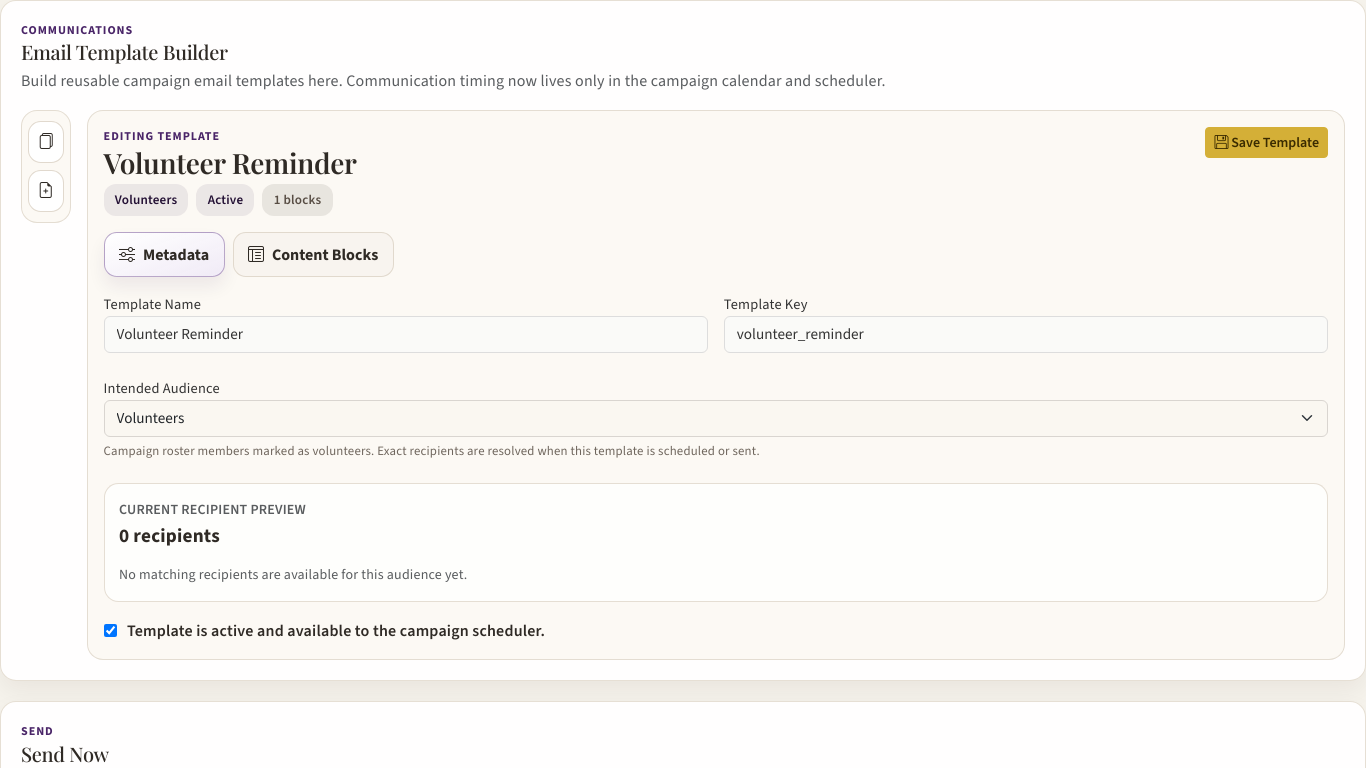
Test case: CampaignStudioCommunicationsSection › preserves authored line breaks in the rendered preview
The width and height of the screenshot is (1366, 768).
Click the button "Content Blocks". click: point(313, 254)
box: [232,232,394,277]
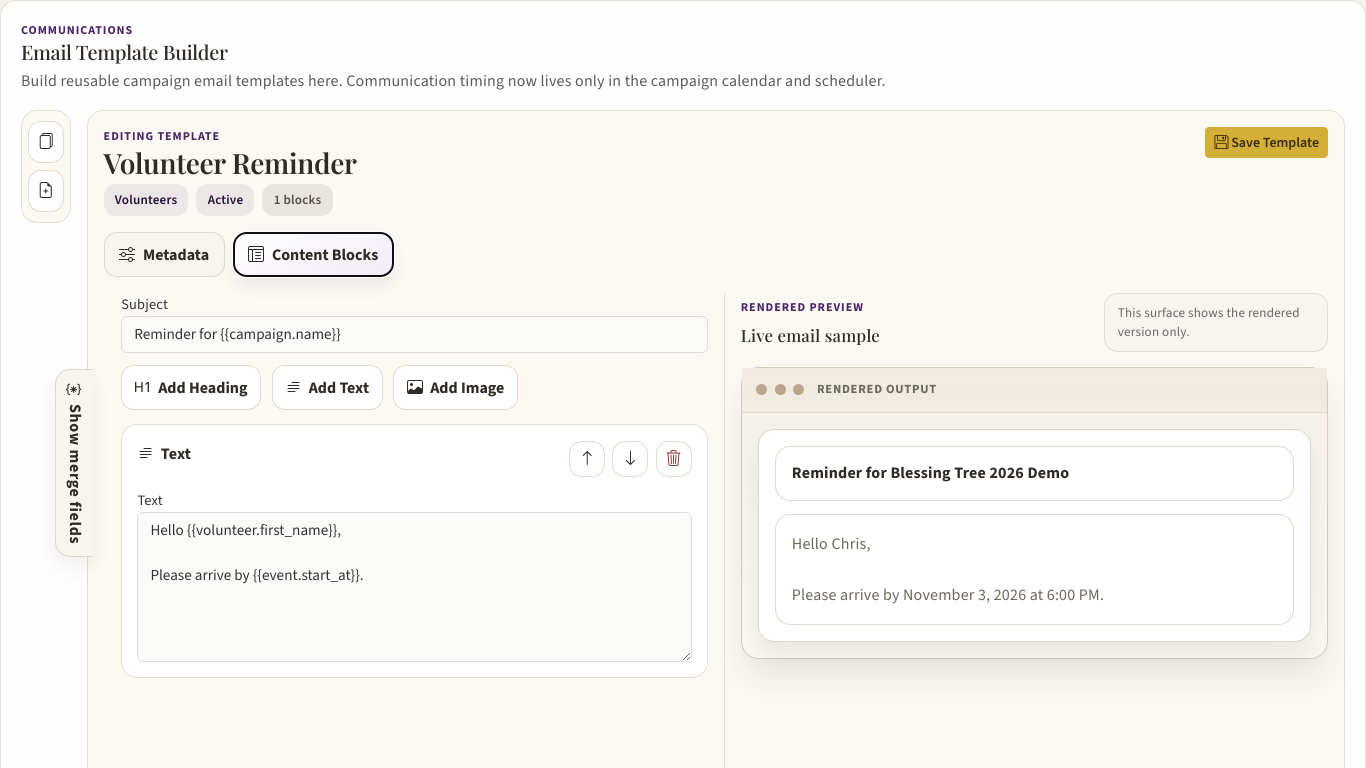
Check: the text "Rendered output" is shown, box [817,381,937,397]
Check: the text with class "campaign-template-preview-card__text-block" shows "Hello Chris,", box [792,533,1104,605]
Check: the text with class "campaign-template-preview-card__text-block" is empty, box [792,533,1104,605]
